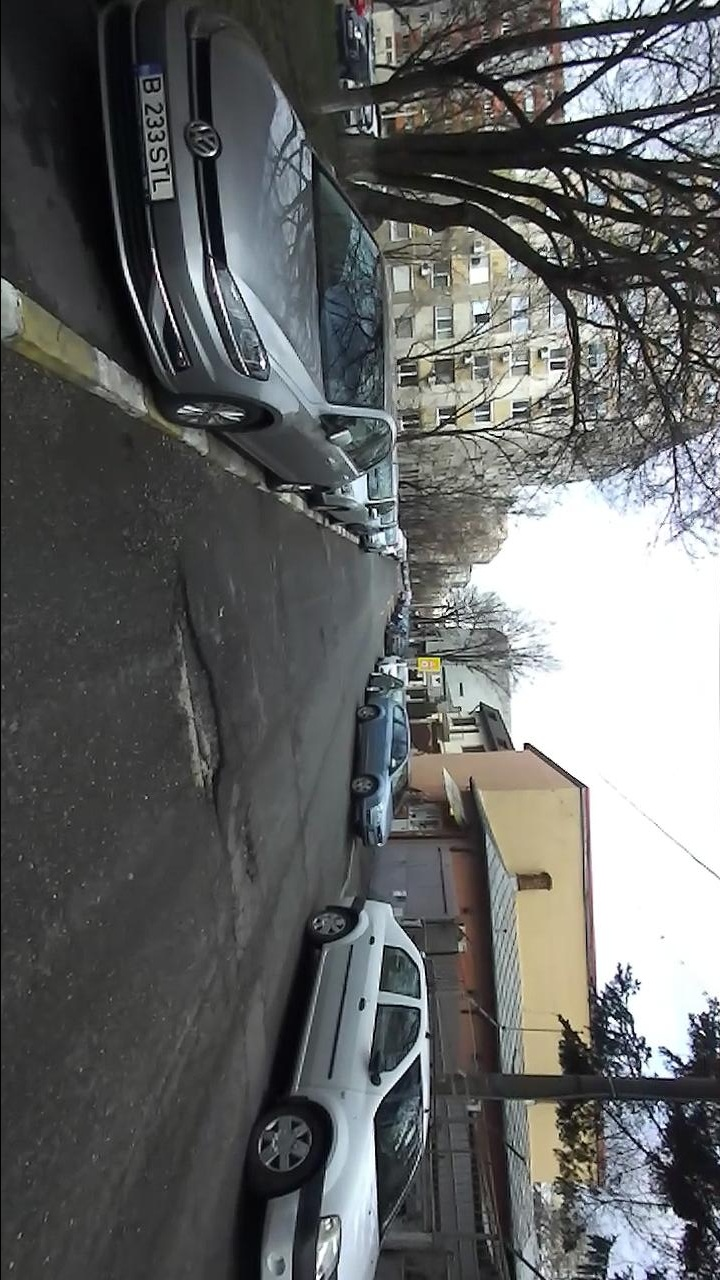pothole: (167, 567, 228, 832), (238, 802, 261, 890)
